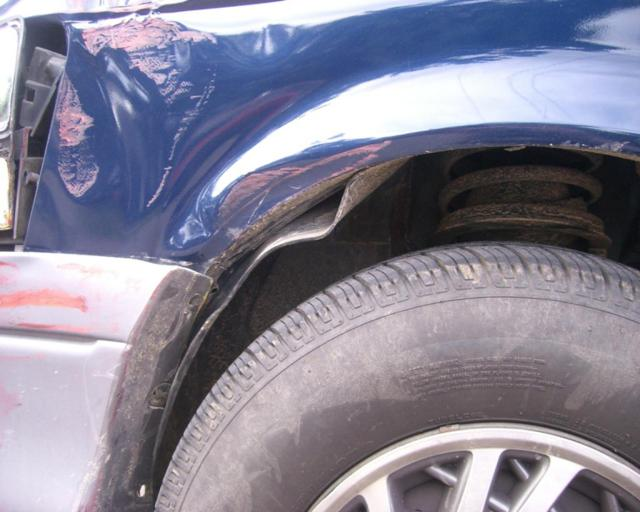dent: (27, 18, 214, 254)
scratch: (211, 140, 395, 277), (2, 289, 91, 313), (550, 136, 639, 158), (1, 315, 85, 336)
